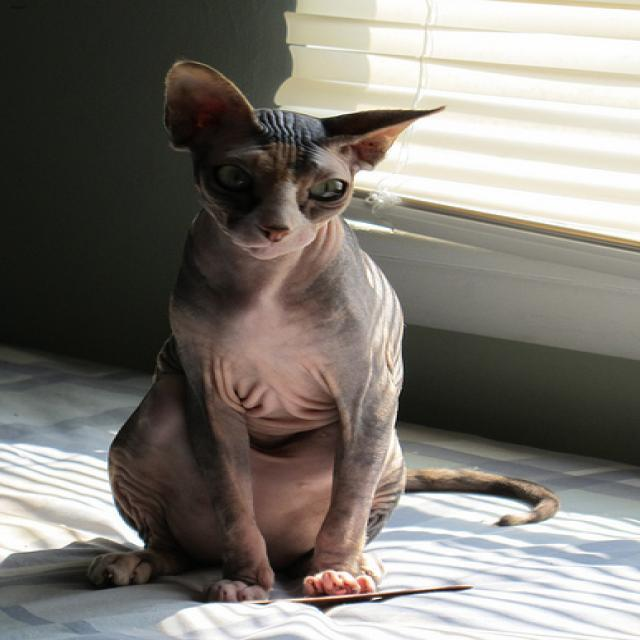Sphynx: (146, 51, 445, 264)
